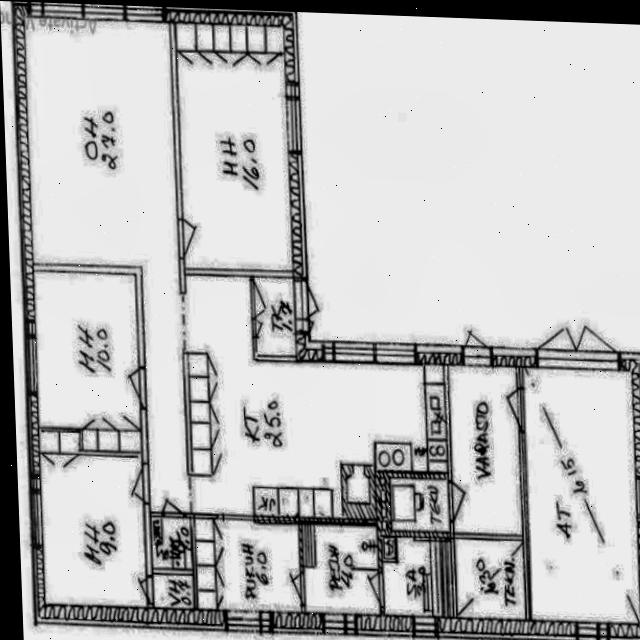room: (33, 267, 147, 610), (524, 364, 640, 625), (176, 18, 293, 274), (448, 361, 522, 537), (192, 517, 305, 612), (303, 521, 379, 616), (152, 515, 194, 609), (254, 275, 296, 356), (389, 477, 451, 531)
